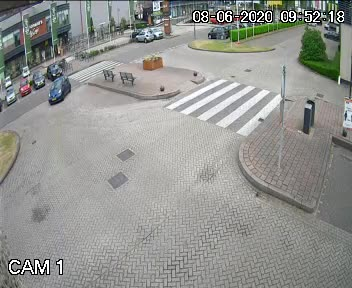car: (49, 77, 74, 111), (321, 16, 345, 50), (203, 24, 228, 43), (128, 27, 152, 45), (15, 79, 31, 99), (32, 69, 45, 92), (4, 88, 19, 106), (44, 63, 63, 77), (146, 28, 167, 38), (3, 71, 10, 90), (18, 64, 31, 74)
